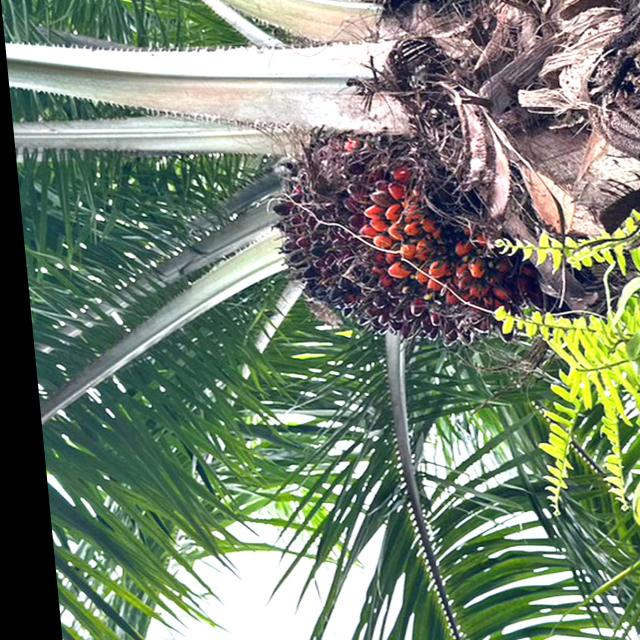ripe: (236, 116, 537, 366)
